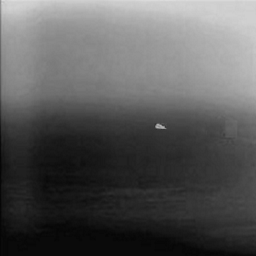Target: (154, 121, 167, 130)
